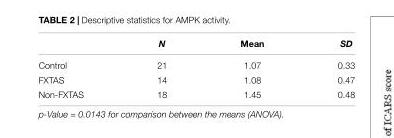table: (37, 37, 354, 98)
table column: (202, 37, 300, 98), (119, 37, 202, 98), (37, 37, 119, 98), (300, 37, 354, 98)
table column header: (37, 37, 354, 53)
table row: (37, 53, 354, 71), (37, 37, 354, 53), (37, 71, 354, 86), (37, 86, 354, 98)
